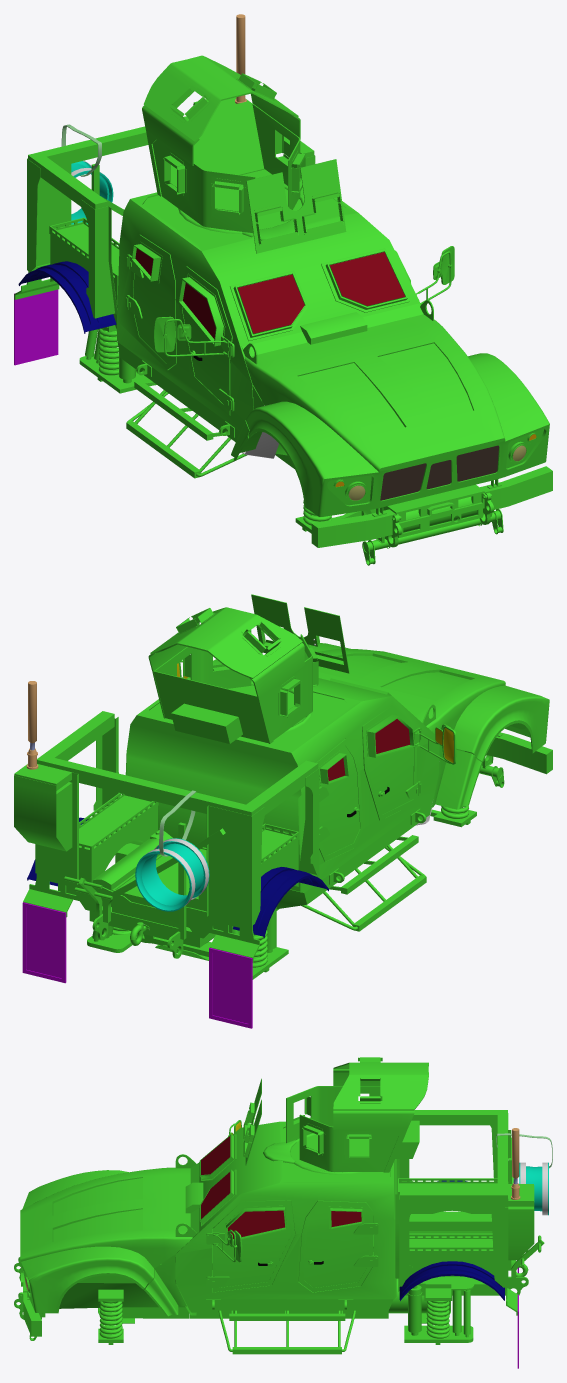
The model's file is vehiclefinal2.fbx.
The picture shows the model from 3 angles, top to bottom: view 1: azimuth 30°, elevation 25°; view 2: azimuth 150°, elevation 25°; view 3: azimuth 270°, elevation 25°; orthographic projection. The views are drawn at different scales.
Visible parts, largest first — view 1: Vehicle; view 2: Vehicle; view 3: Vehicle.
Boxes of the visible parts, x1,y1,x2,y2 form: Vehicle: [14, 14, 552, 565]; Vehicle: [14, 594, 552, 1028]; Vehicle: [14, 1057, 552, 1368].
Bounding box in the file's own units: 332 × 339 × 646.
